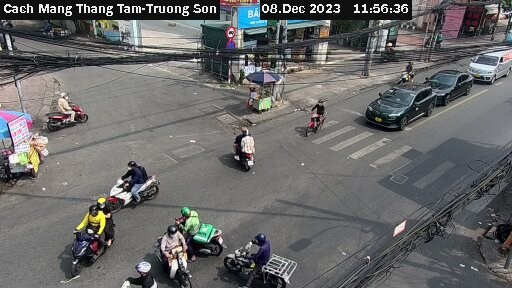car: (366, 79, 433, 129), (422, 65, 473, 106), (465, 43, 512, 84)
motorbike: (212, 225, 305, 285), (147, 224, 201, 286), (63, 208, 123, 262), (167, 191, 224, 246), (105, 159, 176, 200), (224, 133, 271, 174), (45, 97, 94, 131), (114, 259, 169, 288), (301, 100, 332, 130), (394, 59, 419, 82)
